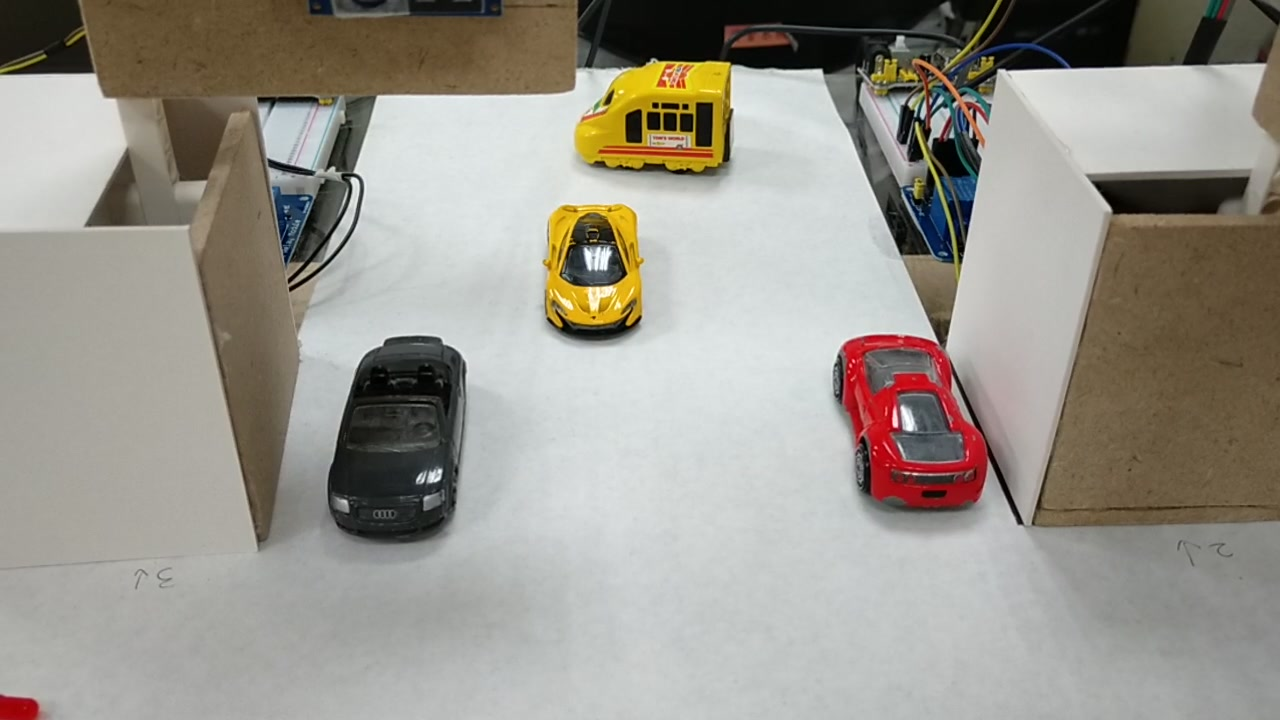car: (324, 329, 469, 526), (839, 339, 989, 511), (546, 204, 633, 335)
